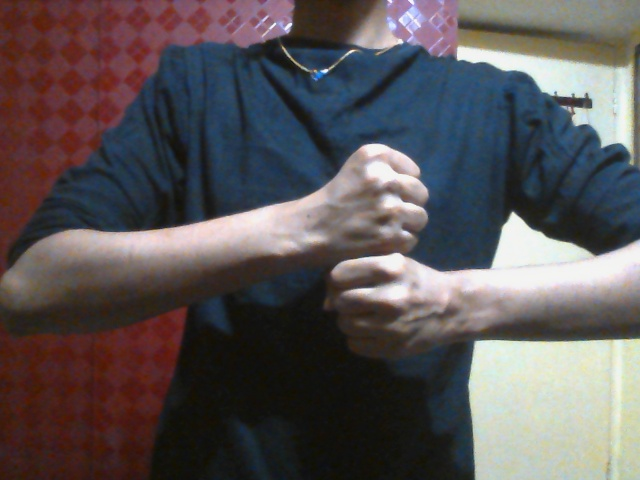G: (320, 140, 454, 361)
